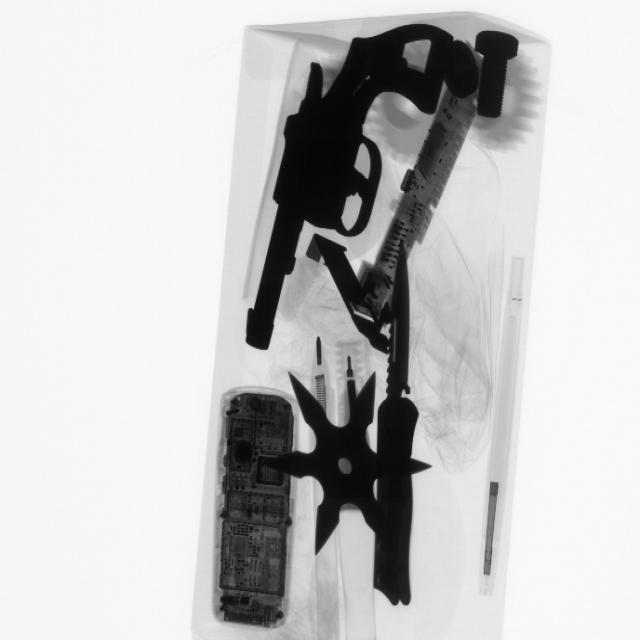GUN: (217, 18, 465, 353), (358, 229, 429, 614), (280, 323, 387, 568), (435, 339, 437, 347)
